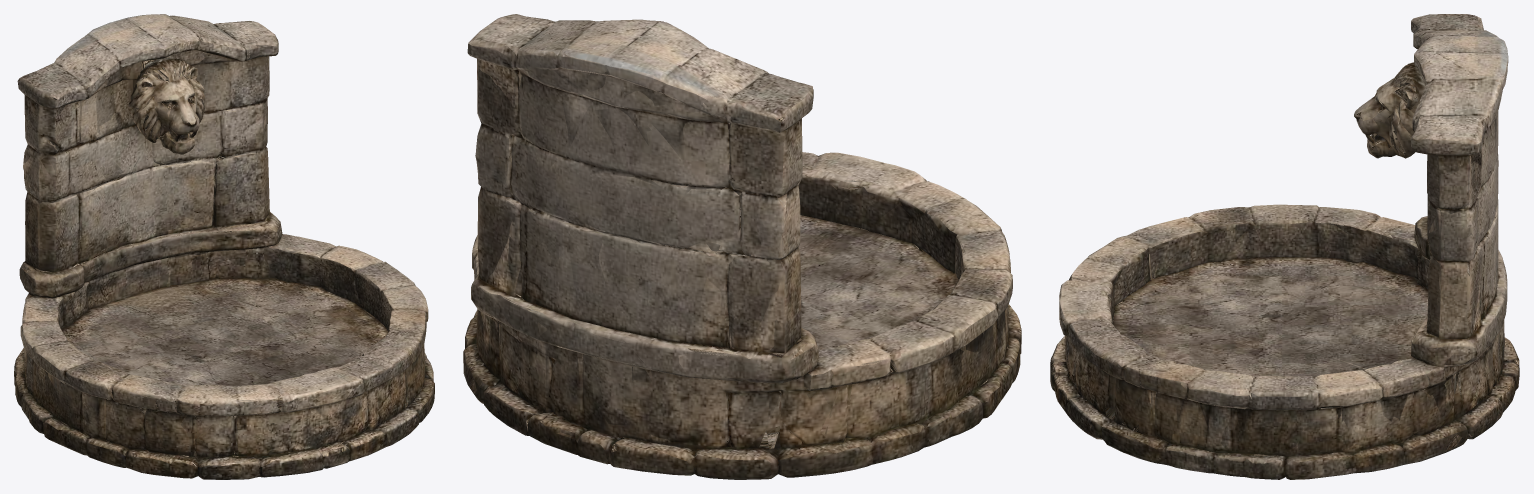
The model's file is lion_head_fountain.glb.
3 renders of one model, left to right at view 1: azimuth 30°, elevation 25°; view 2: azimuth 150°, elevation 25°; view 3: azimuth 270°, elevation 25°, orthographic. The views are drawn at different scales.
Visible parts, largest first — view 1: turn, mesh_lod; view 2: turn, mesh_lod; view 3: turn, mesh_lod.
Boxes of the visible parts, x1,y1,x2,y2 form: turn: (14,14,434,479); mesh_lod: (14,14,434,479); turn: (463,14,1021,479); mesh_lod: (464,16,1021,479); turn: (1050,14,1519,479); mesh_lod: (1051,14,1519,479).
Size of the model in its own units: 2.54 by 2 by 2.57.
1 material, 1 textured.
